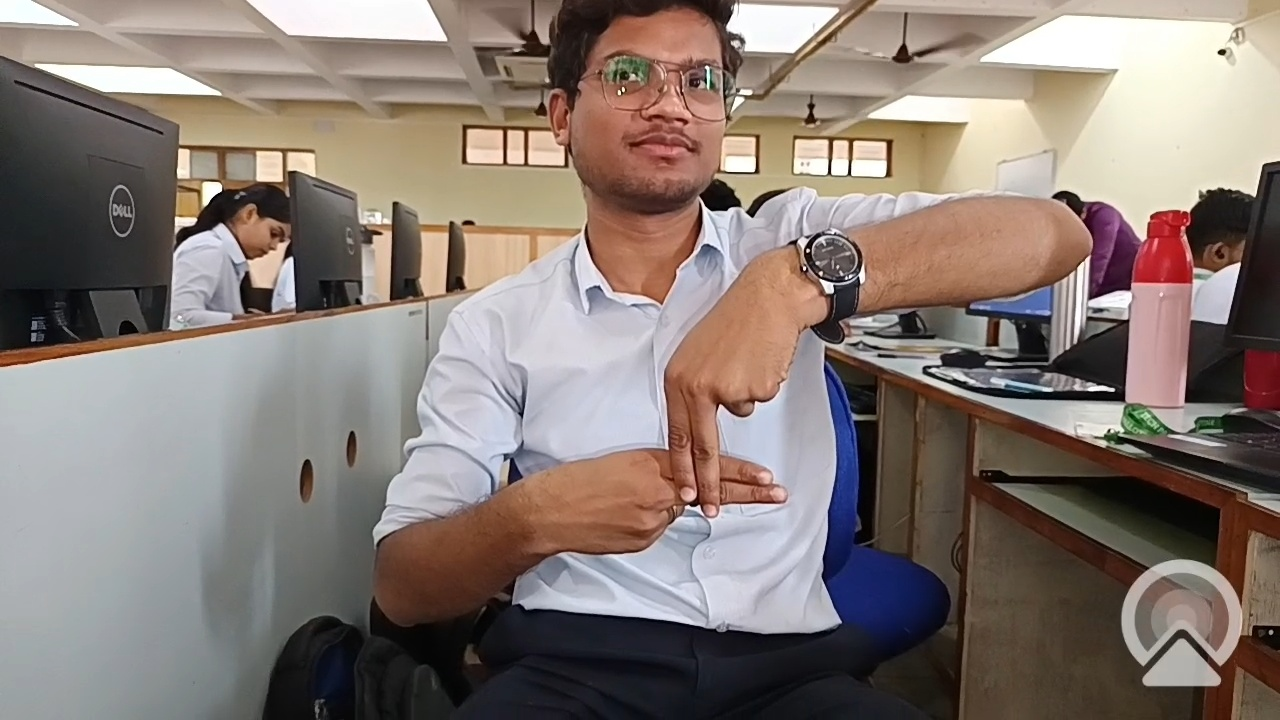F: (544, 258, 837, 540)
